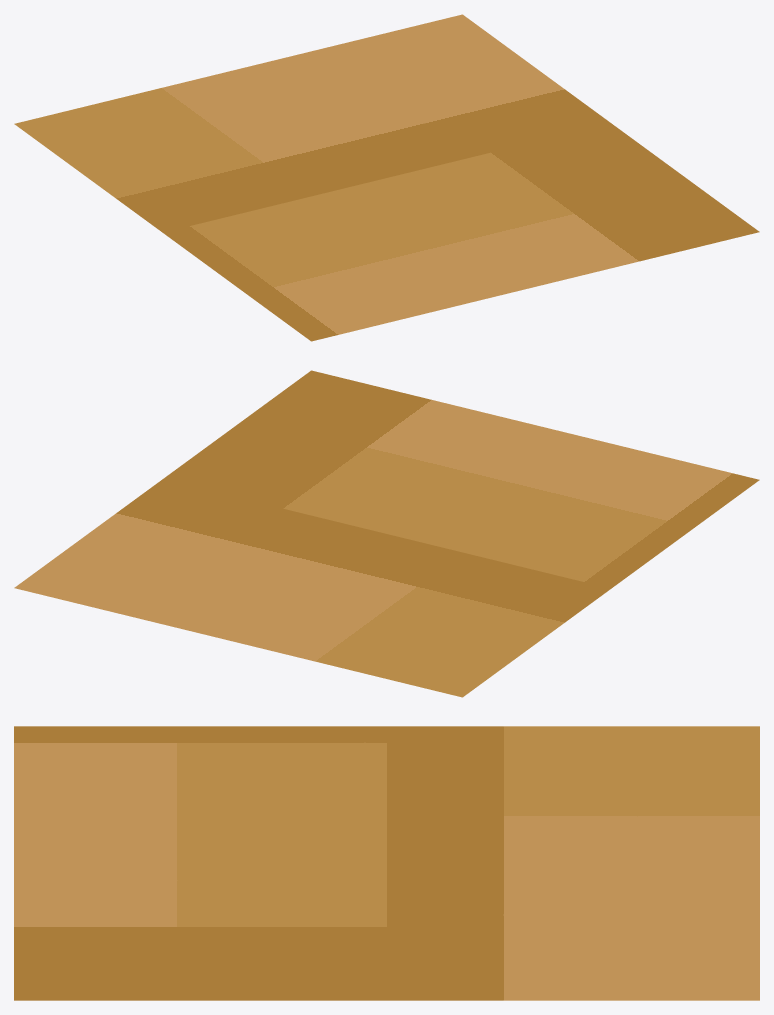
The picture shows the model from 3 angles, top to bottom: view 1: azimuth 30°, elevation 25°; view 2: azimuth 150°, elevation 25°; view 3: azimuth 270°, elevation 25°; orthographic projection. The views are drawn at different scales.
Bounding box in the file's own units: 0.8711 × 0 × 1.
Materials: 1 (1 with a texture image).
